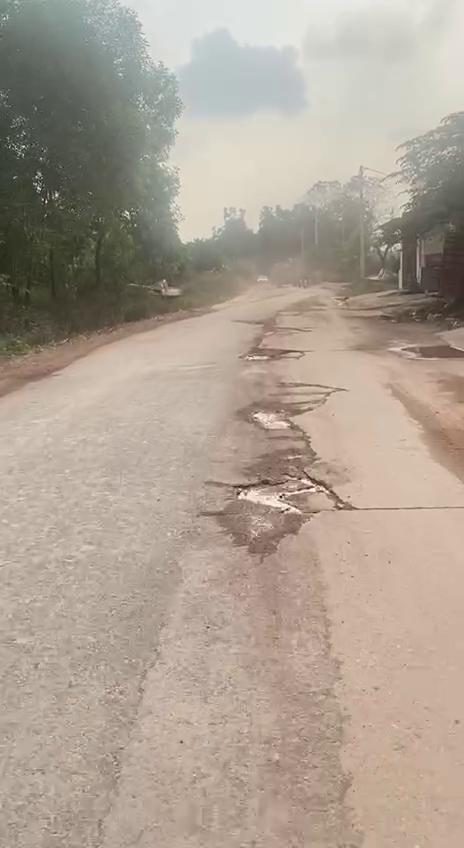pothole: (226, 468, 346, 522), (242, 398, 304, 438), (240, 340, 300, 365)
